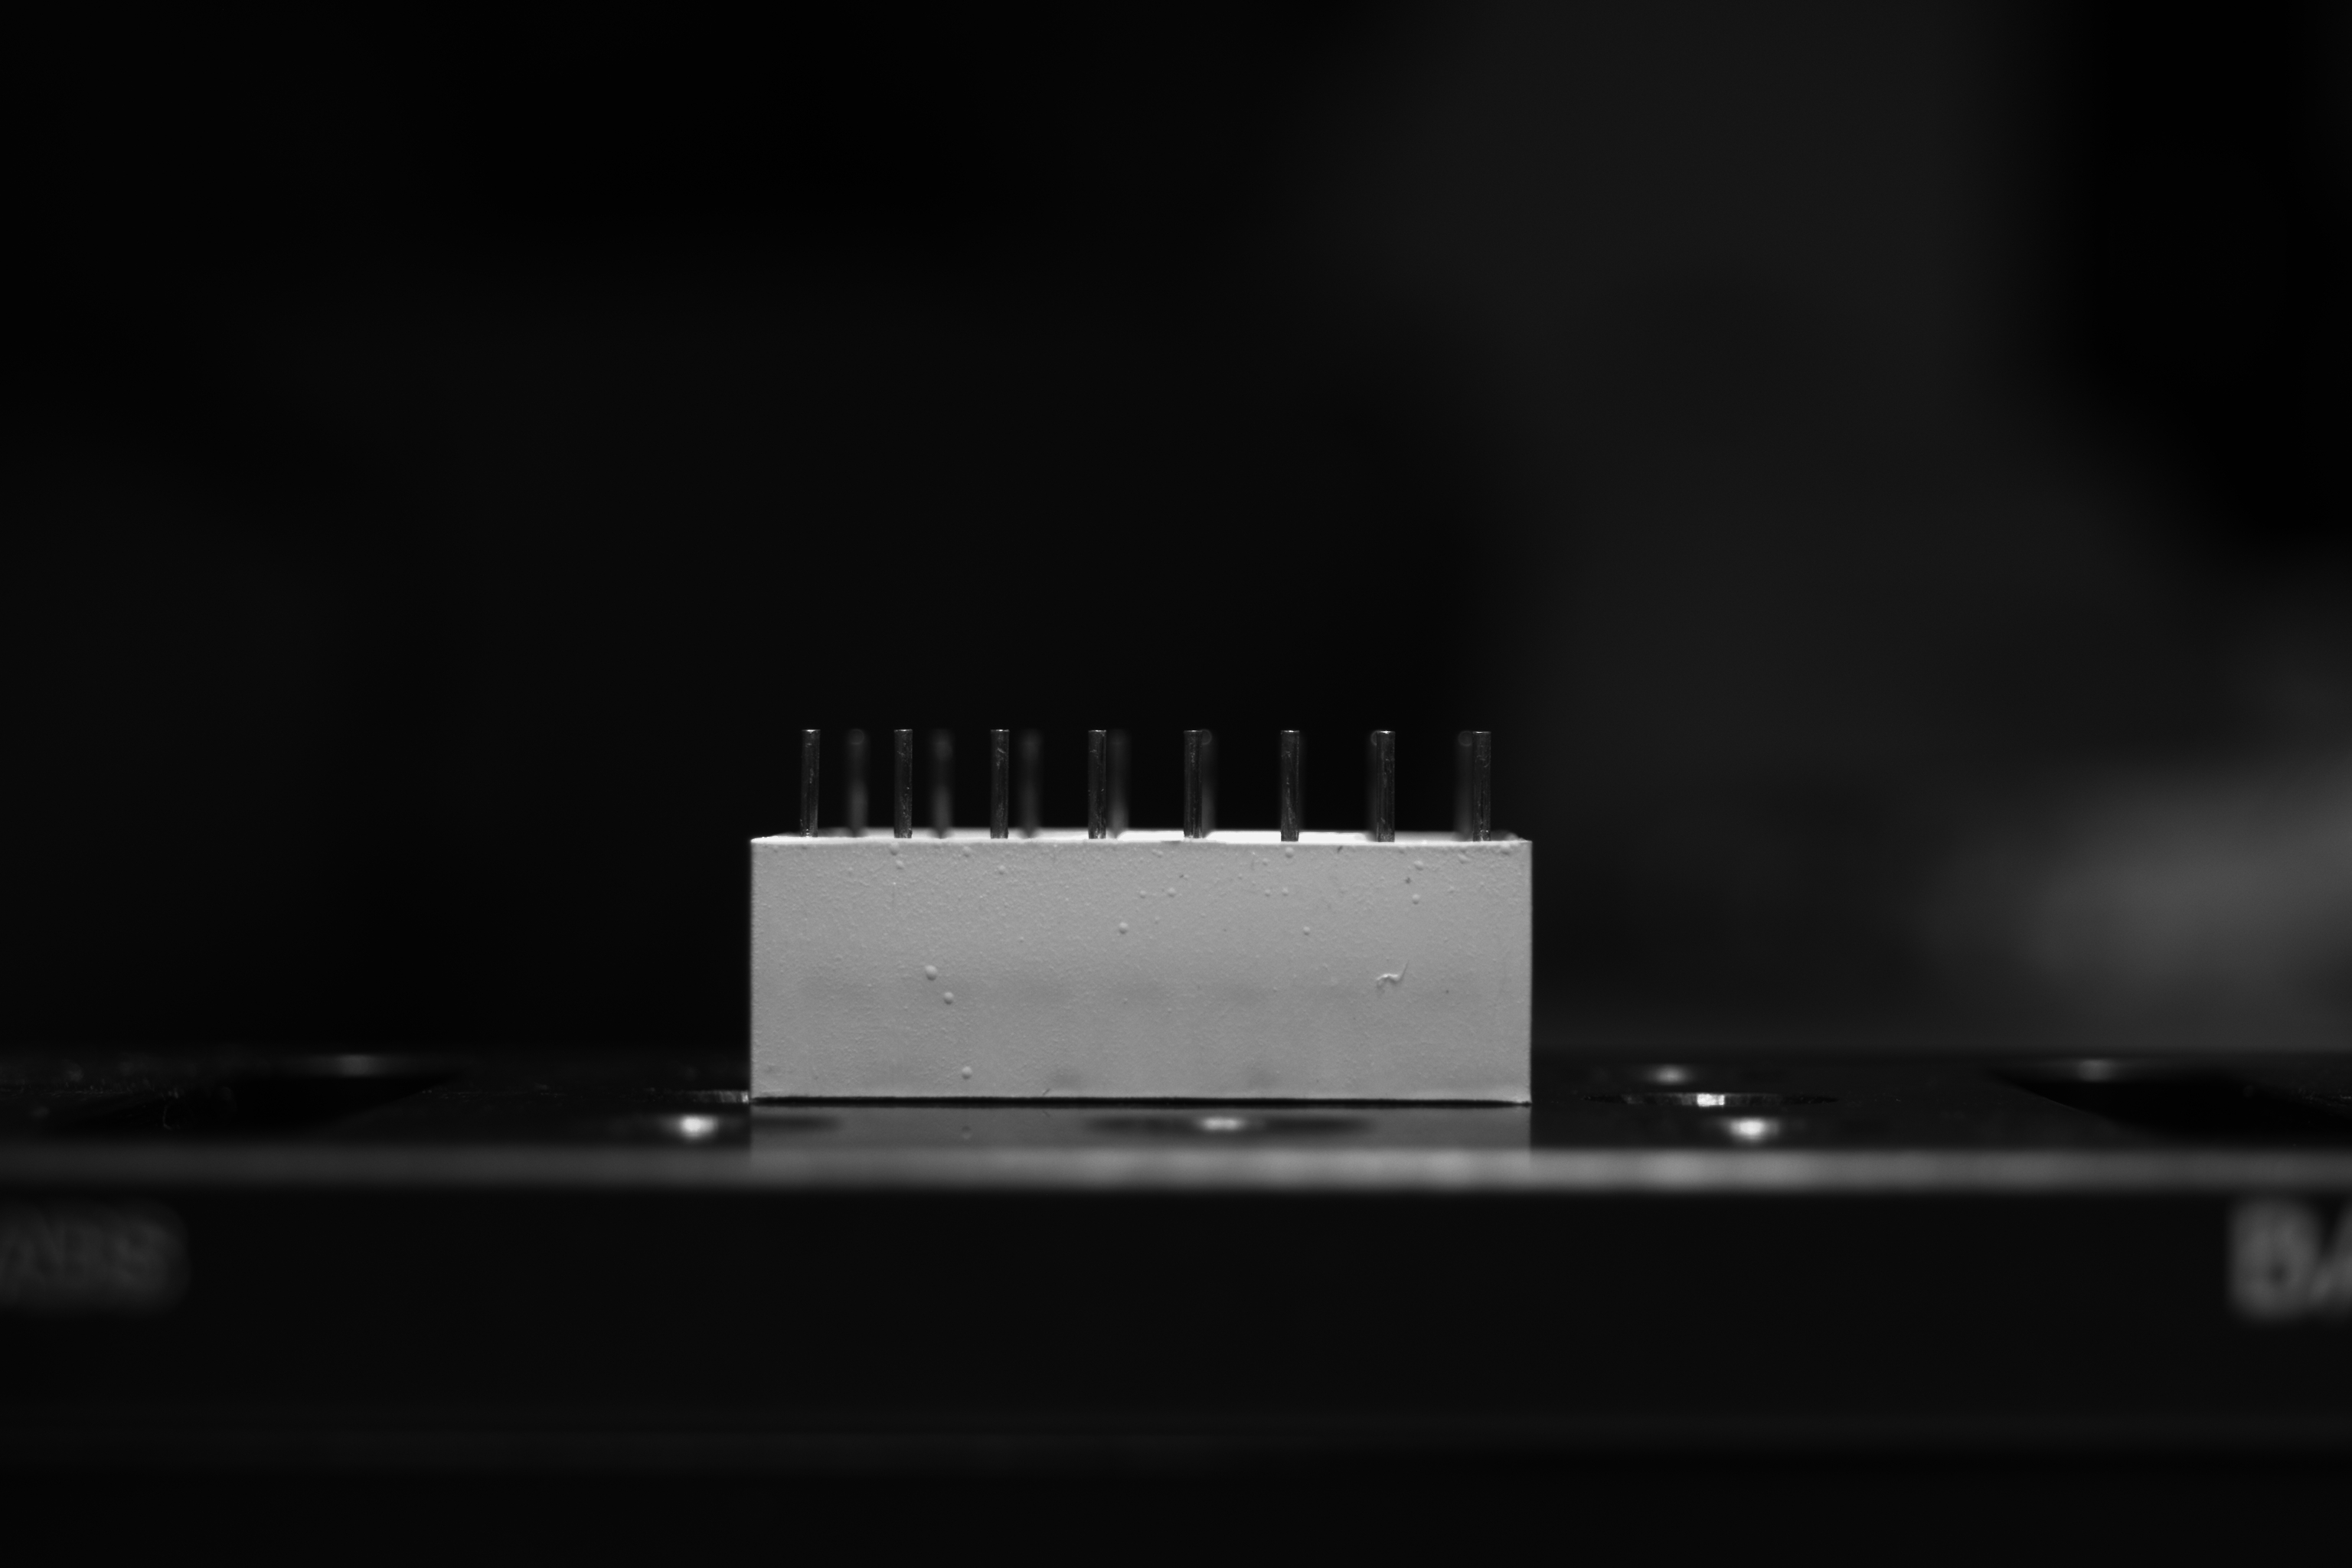glue: (1374, 959, 1412, 990), (889, 842, 906, 871), (1496, 840, 1521, 857), (1458, 845, 1473, 866), (924, 962, 938, 983), (943, 989, 955, 1006), (1412, 857, 1424, 873), (962, 1064, 973, 1081), (1151, 847, 1164, 859), (1410, 892, 1421, 906), (1281, 885, 1291, 899), (1120, 920, 1129, 936), (1302, 924, 1311, 938), (962, 845, 971, 857), (1286, 845, 1293, 859), (997, 864, 1006, 875), (1169, 885, 1176, 898), (1139, 889, 1146, 899)
